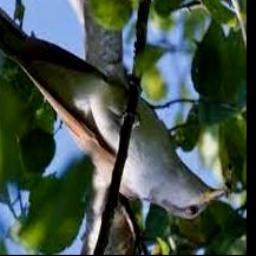Cuckoo: (0, 0, 224, 221)
